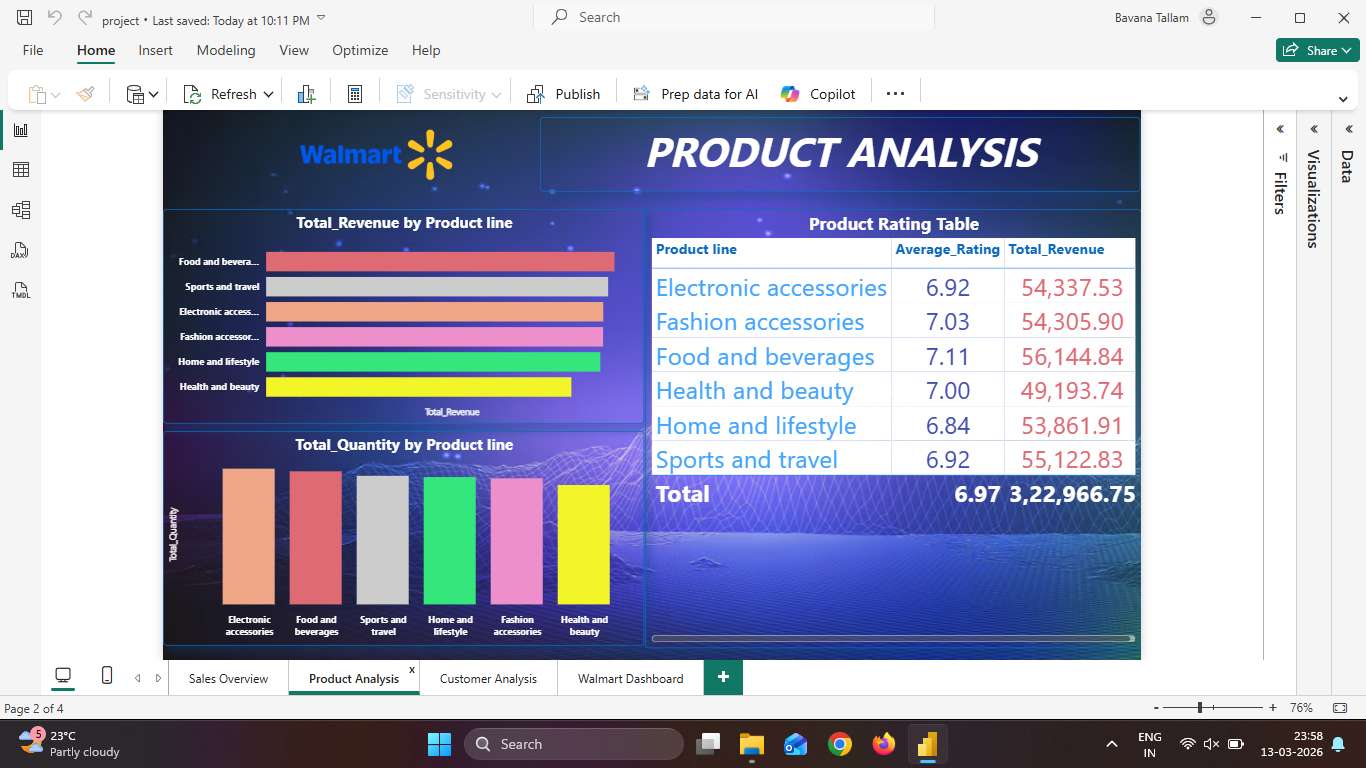

This screenshot's page, from the dashboard's own definition file:
{"tool":"powerbi","page":{"name":"Product Analysis","canvas":[1280,720],"ordinal":1},"visuals":[{"type":"clusteredBarChart","fields":{"Category":["WalmartSalesData.Product line"],"Y":["WalmartSalesData.Total_Revenue"]},"box":[0,129.3,630.4,280.7],"z":0},{"type":"image","box":[0,0,558.4,116.1],"z":1000},{"type":"textbox","box":[493.7,8.8,786.1,98.4],"z":2000},{"type":"clusteredColumnChart","fields":{"Category":["WalmartSalesData.Product line"],"Y":["WalmartSalesData.Total_Quantity"]},"box":[0,420,630,281],"z":3000},{"type":"tableEx","title":"Product Rating Table","fields":{"Values":["WalmartSalesData.Product line","WalmartSalesData.Average_Rating","WalmartSalesData.Total_Revenue"]},"box":[630.4,129.3,650,575],"z":4000}]}

Visuals, with their boxes on the page's 1280x720 design canvas (x1, y1, x2, y2). These are canvas units, not pixel positions in the 1366x768 screenshot, which may show the page scaled, cropped or inside an application window:
clusteredBarChart - WalmartSalesData.Product line x WalmartSalesData.Total_Revenue: <region>0, 129, 630, 410</region>
image: <region>0, 0, 558, 116</region>
textbox: <region>494, 9, 1280, 107</region>
clusteredColumnChart - WalmartSalesData.Product line x WalmartSalesData.Total_Quantity: <region>0, 420, 630, 701</region>
"Product Rating Table" tableEx: <region>630, 129, 1280, 704</region>
